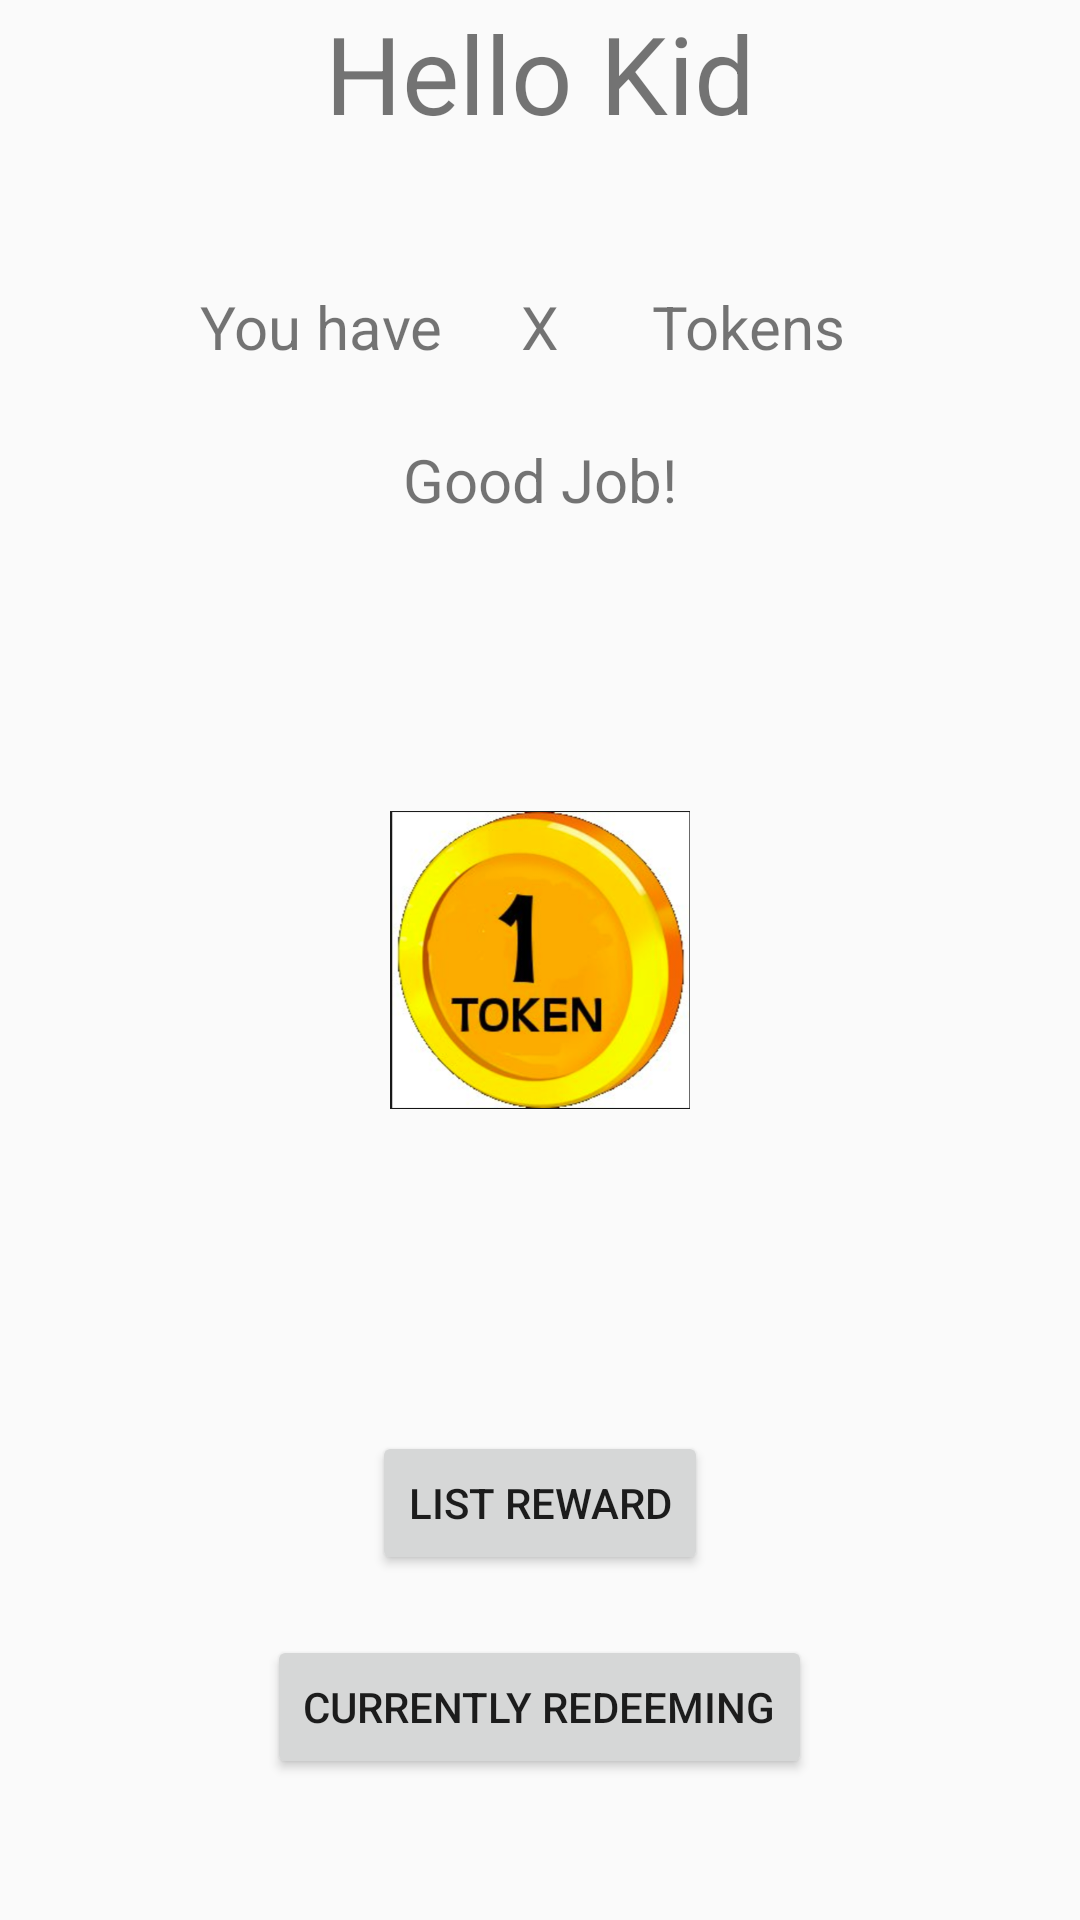

Icon bounding boxes for this 1080 x 1920 phone screenshot, format (x1, y1, x2, y2):
coin: (390, 811, 690, 1109)
